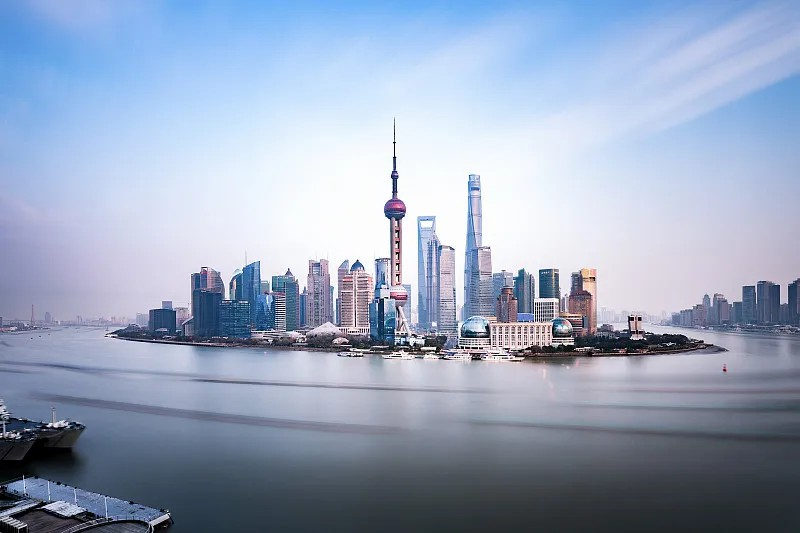Oriental: (384, 116, 411, 334)
